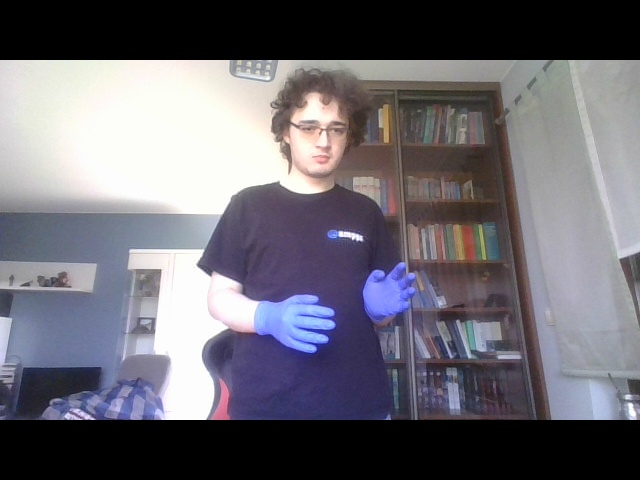glove: (253, 292, 339, 355), (360, 260, 415, 325)
